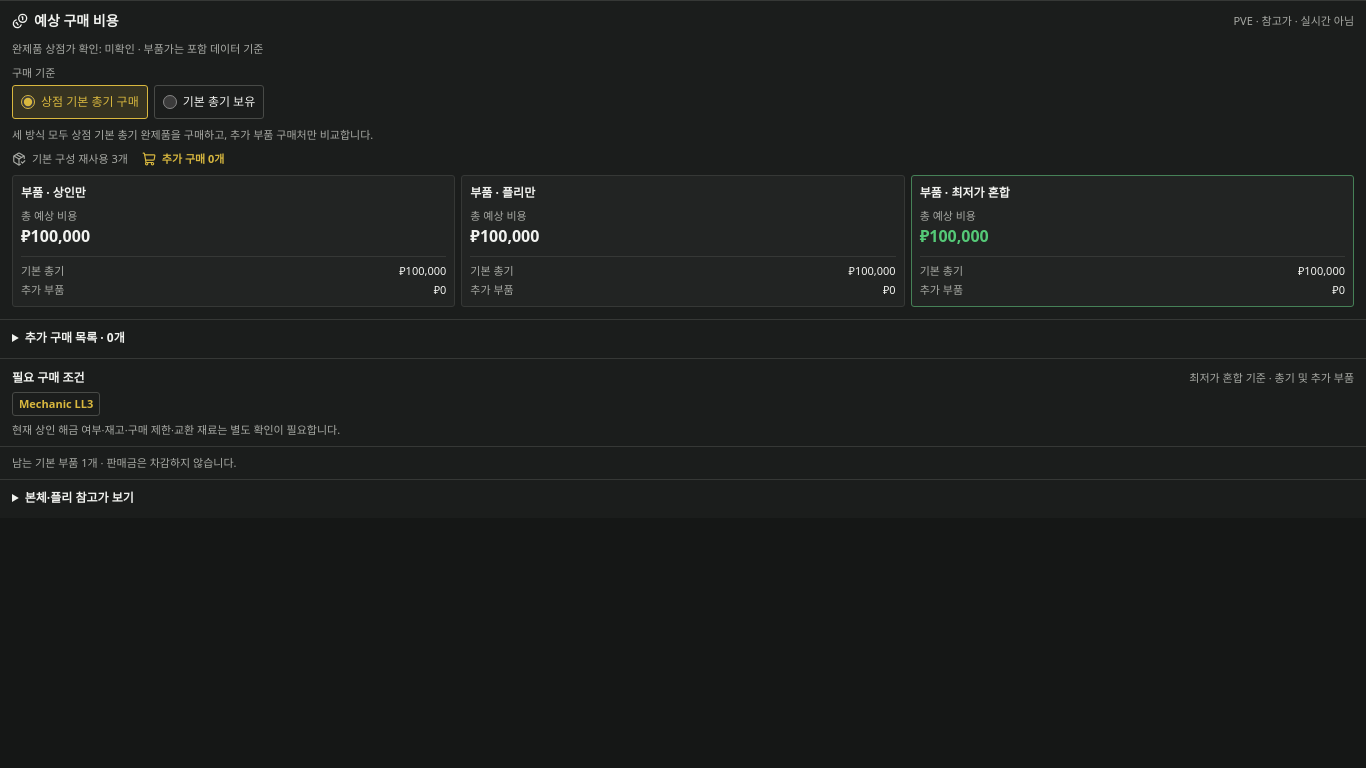
Test: BuildPriceSummary purchase view › keeps receiver and flea references outside the purchase totals
What coordinates should you click on to do the following:
click the heading "본체·플리 참고가 보기"
I would click on:
 (79, 498)
Its box is [25,489,134,506].
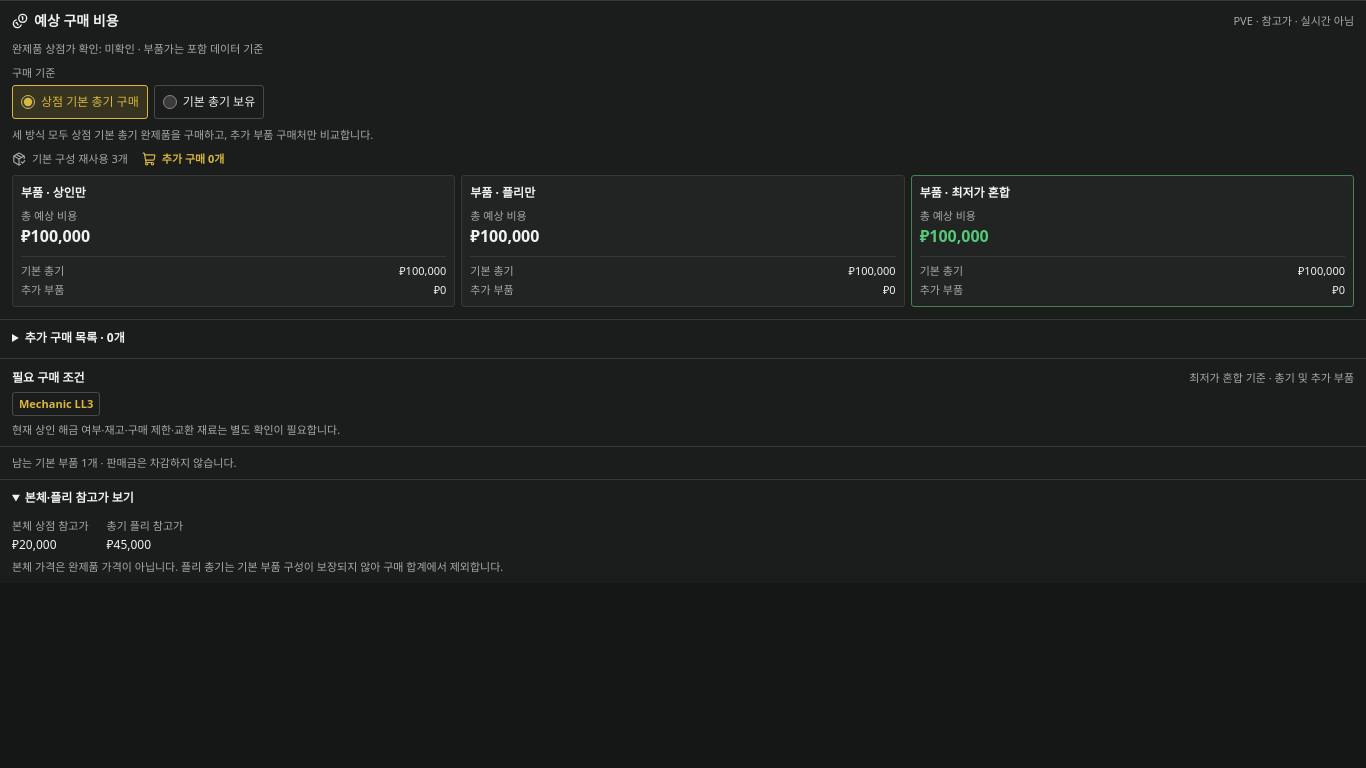
expect the text "₽20,000" is shown: met, box [12,536,56,553]
expect the text "₽45,000" is shown: met, box [107,536,151,553]
expect the text "본체 가격은 완제품 가격이 아닙니다. 플리 총기는 기본 부품 구성이 보장되지 않아 구매 합계에서 제외합니다." is shown: met, box [12,559,503,574]
